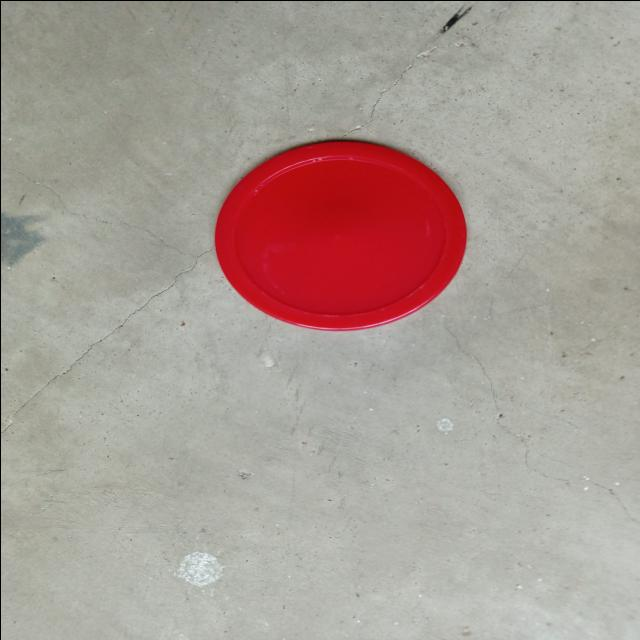chip: (209, 140, 465, 330)
